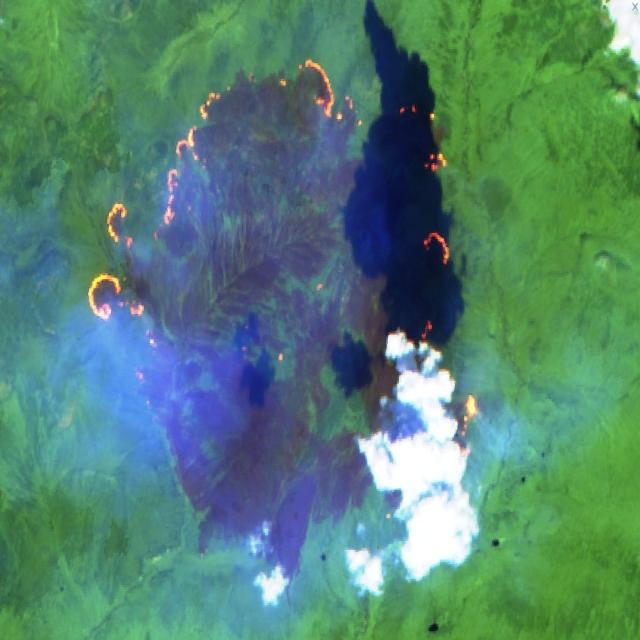fire: (83, 52, 485, 481)
